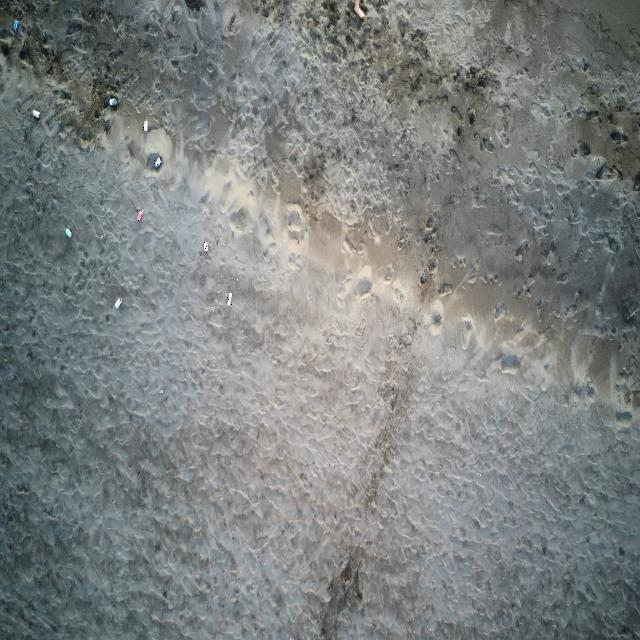tin-and-aluminum-cans: (115, 296, 124, 308), (154, 157, 162, 169), (143, 120, 149, 134), (227, 291, 232, 306), (108, 98, 117, 106), (137, 210, 143, 222), (203, 242, 209, 254), (66, 228, 72, 239), (32, 110, 40, 118), (14, 20, 19, 31)
